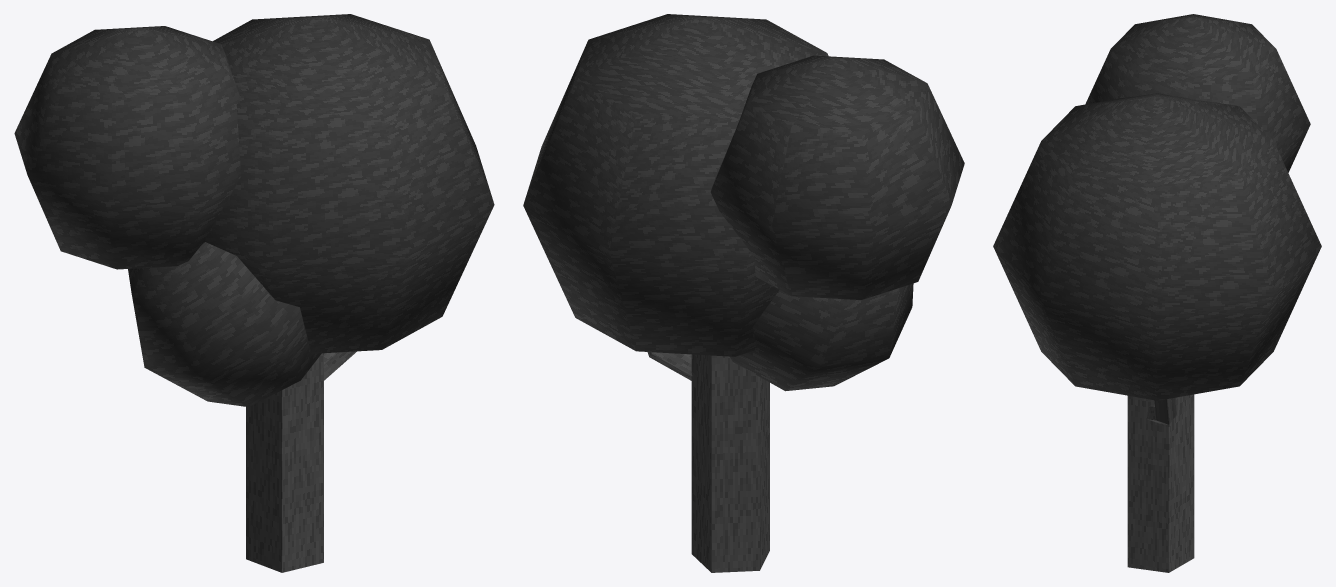
File: oak_tree_01.obj
3 views of the same model, side by side, from view 1: azimuth 30°, elevation 25°; view 2: azimuth 150°, elevation 25°; view 3: azimuth 270°, elevation 25° (orthographic). The views are drawn at different scales.
Visible parts, largest first — view 1: oak_tree_1; view 2: oak_tree_1; view 3: oak_tree_1.
Boxes of the visible parts, x1,y1,x2,y2 form: oak_tree_1: (14,14,494,572); oak_tree_1: (523,14,964,572); oak_tree_1: (993,14,1321,572).
Bounding box in the file's own units: 3.93 × 4.76 × 2.92.
